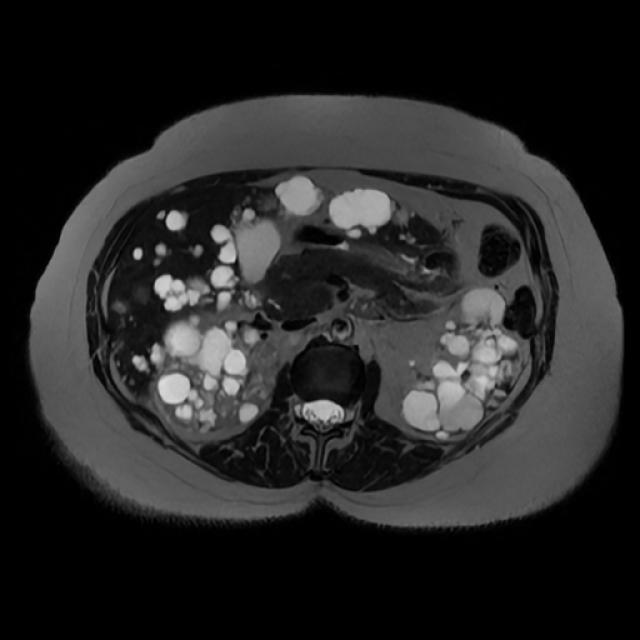sag: (148, 303, 283, 432)
sol: (383, 286, 530, 440)
